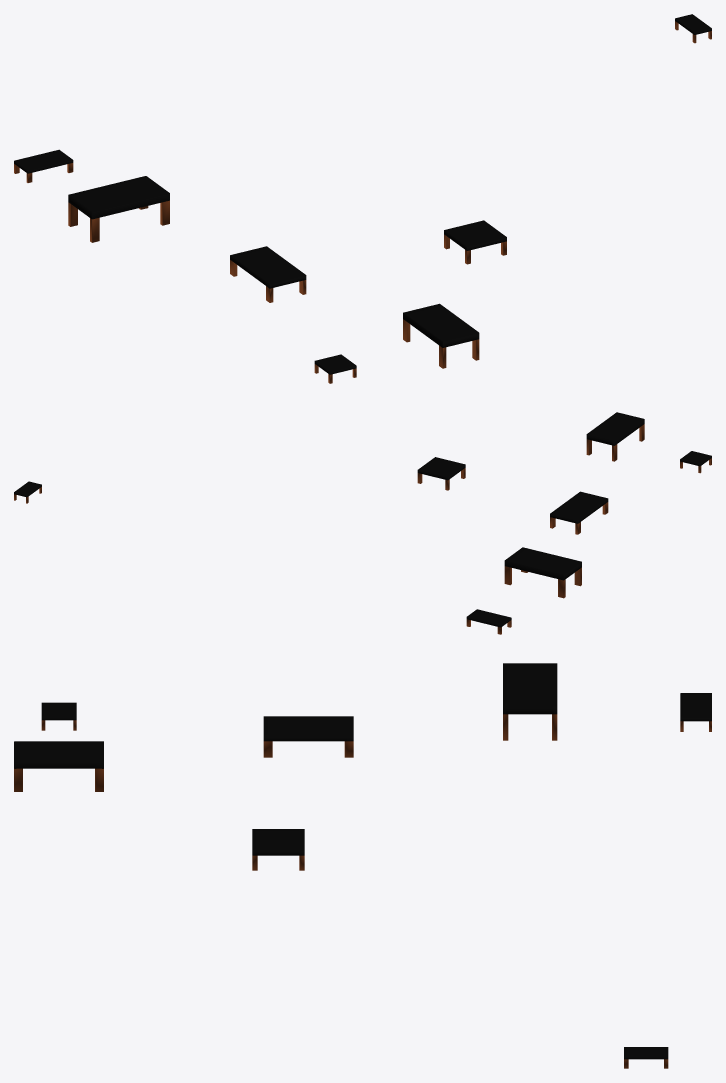
Rendered from table.fbx.
3 views of the same model, one above another, from view 1: azimuth 30°, elevation 25°; view 2: azimuth 150°, elevation 25°; view 3: azimuth 270°, elevation 25° (orthographic). The views are drawn at different scales.
Visible parts, largest first — view 1: table.007, table.006, table.001, table.003, table.002, table.005; view 2: table.007, table.006, table.001, table.003, table.002, table.005; view 3: table.007, table.006, table.001, table.003, table.002, table.005, table.004.
Boxes of the visible parts, bbox=[...] form: table.007: bbox=[68, 176, 169, 242]; table.006: bbox=[403, 303, 479, 368]; table.001: bbox=[230, 246, 306, 302]; table.003: bbox=[444, 220, 506, 264]; table.002: bbox=[14, 149, 73, 182]; table.005: bbox=[314, 354, 356, 383]; table.007: bbox=[504, 547, 581, 598]; table.006: bbox=[586, 412, 644, 461]; table.001: bbox=[550, 491, 608, 534]; table.003: bbox=[417, 457, 465, 490]; table.002: bbox=[466, 609, 511, 634]; table.005: bbox=[680, 451, 711, 473]; table.007: bbox=[503, 663, 557, 740]; table.006: bbox=[14, 741, 103, 791]; table.001: bbox=[263, 716, 353, 757]; table.003: bbox=[252, 829, 304, 870]; table.002: bbox=[680, 693, 711, 731]; table.005: bbox=[41, 702, 76, 730]; table.004: bbox=[624, 1047, 668, 1068].
Bounding box in the file's own units: 8060 × 405 × 6404.
